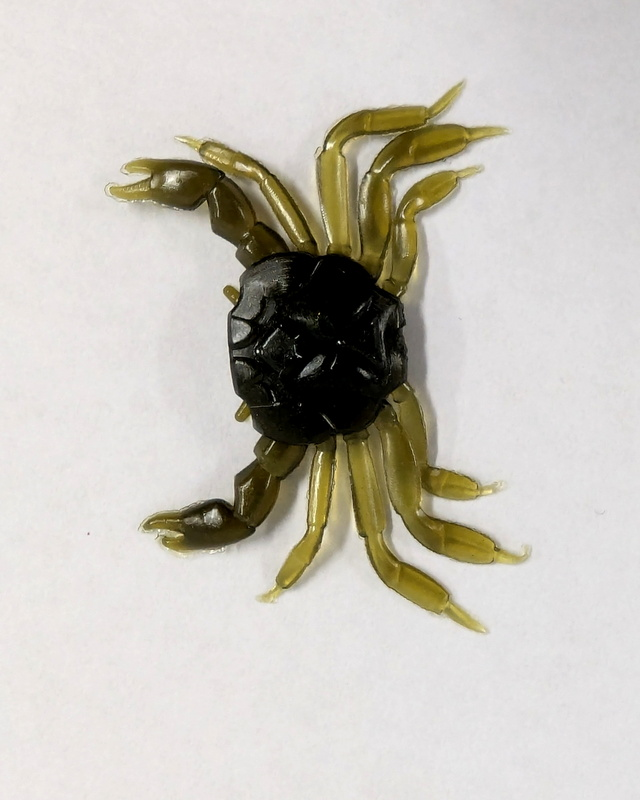crab2: (105, 75, 533, 637)
